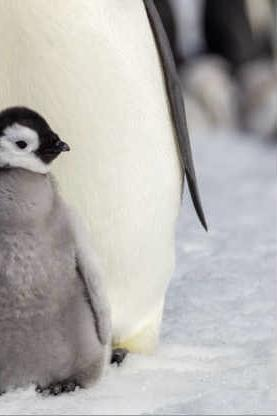Emperor Penguin: (0, 0, 231, 389)
